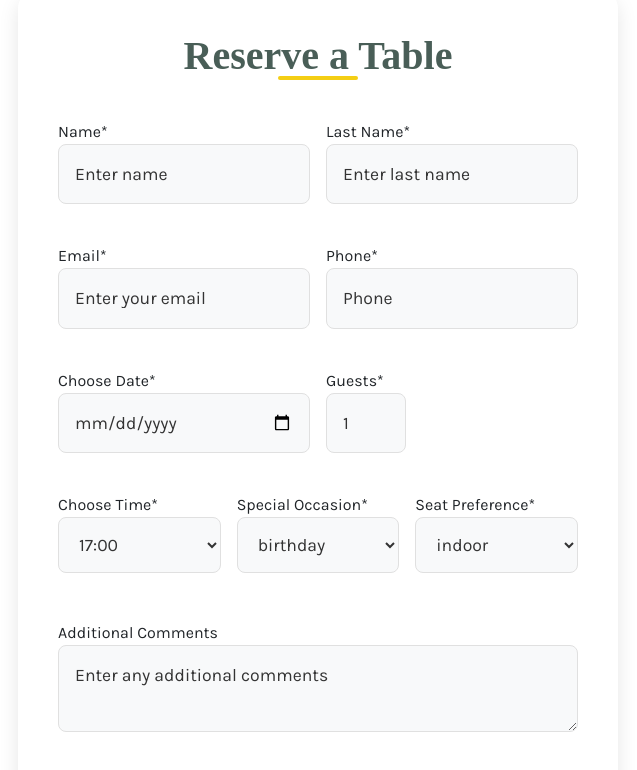
Test: validates email format
The width and height of the screenshot is (637, 770).
Note: Enter invalid email
Type "invalid-email" into the field labelled "Email*". click: (184, 299)
box: [58, 268, 310, 329]
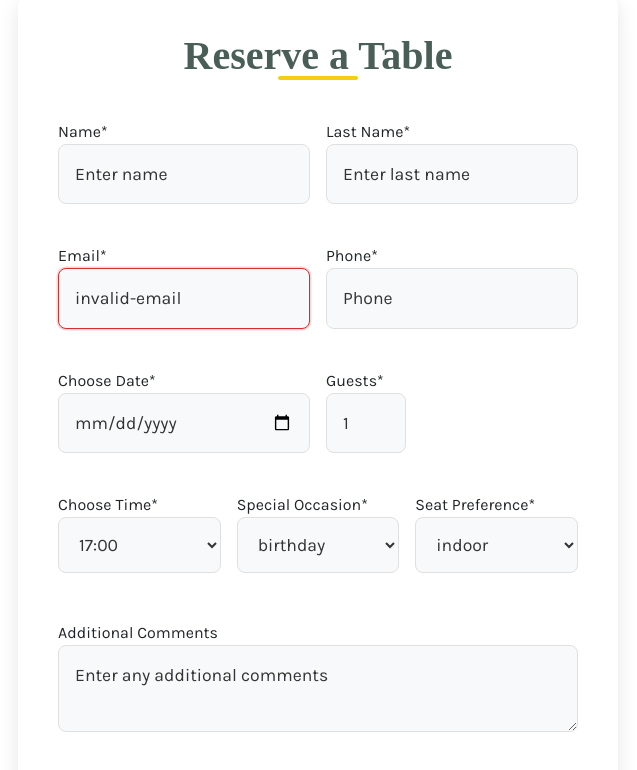
Leave the field labelled "Email*", box [58, 268, 310, 329]
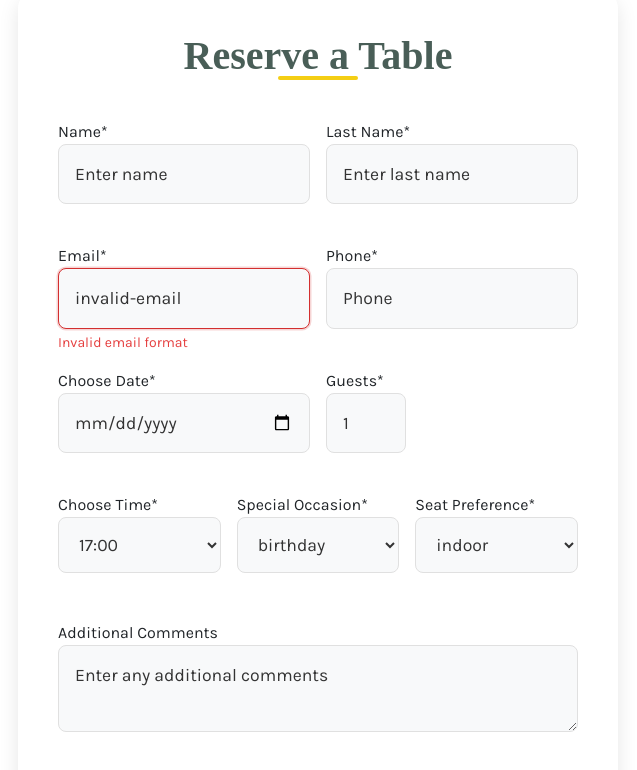
Expected: the text "Invalid email format" is shown, [58, 332, 188, 353]
Note: Enter valid email
Replace the text in the field labelled "Email* Invalid email format" with "valid@example.com". click: (184, 299)
box: [58, 268, 310, 329]
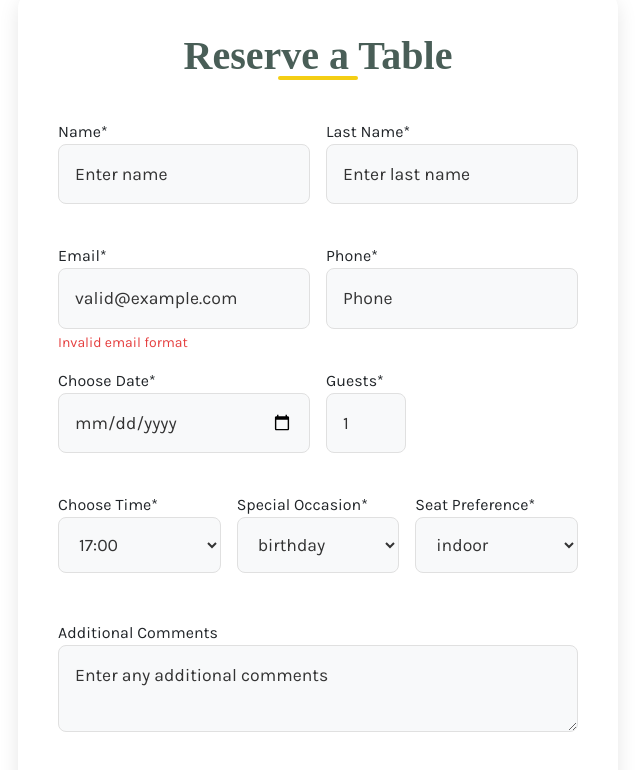
Leave the field labelled "Email* Invalid email format", box [58, 268, 310, 329]
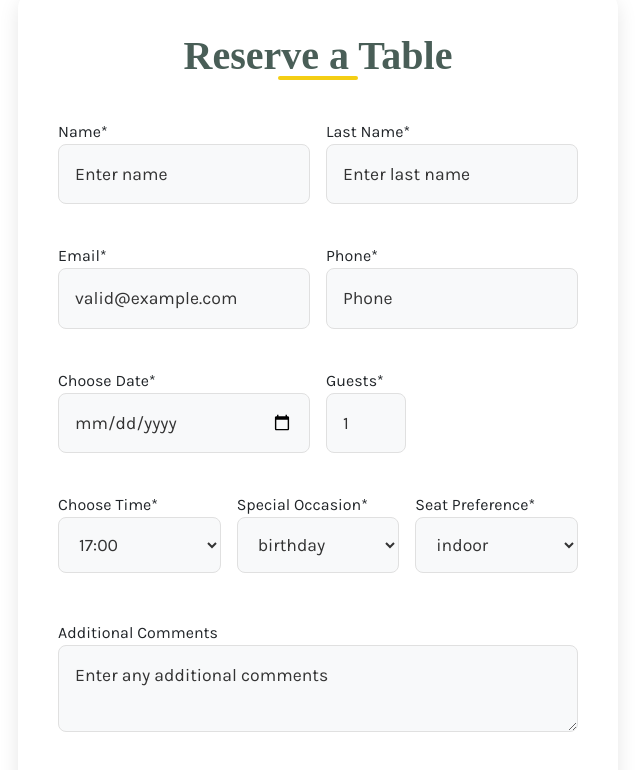
Expected: the text "Invalid email format" is gone
